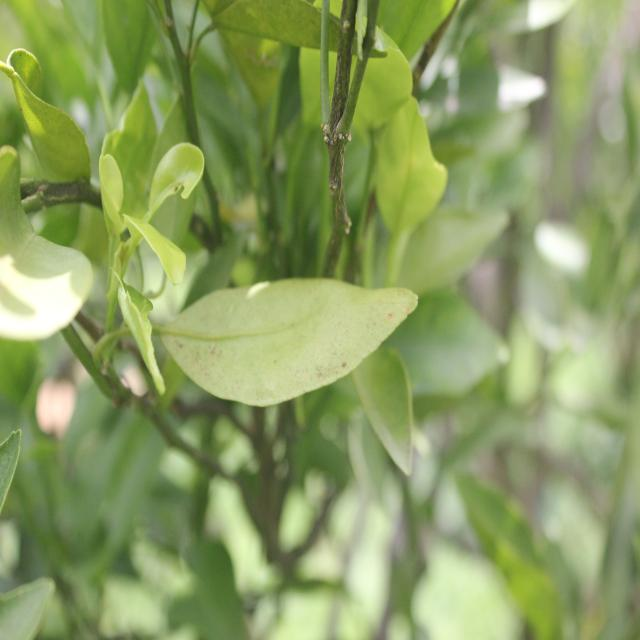blackspot: (173, 281, 404, 405)
